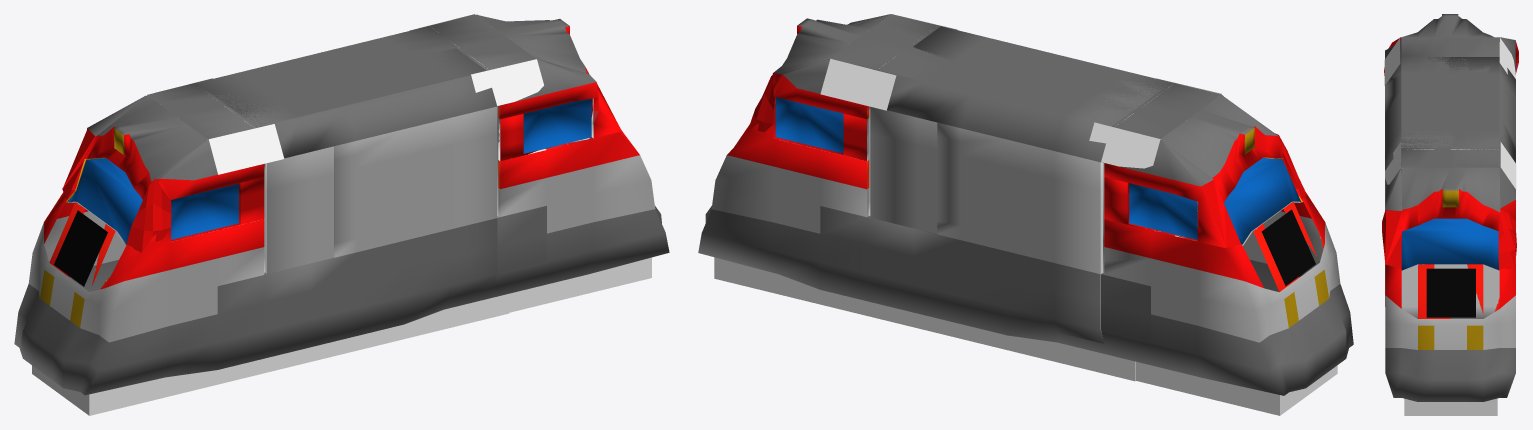
File: deTrain.fbx
The picture shows the model from 3 angles, left to right: view 1: azimuth 30°, elevation 25°; view 2: azimuth 150°, elevation 25°; view 3: azimuth 270°, elevation 25°; orthographic projection. The views are drawn at different scales.
Visible parts, largest first — view 1: Plane.001, Plane.000; view 2: Plane.000, Plane.001; view 3: Plane.000, Plane.001.
Part boxes in pixels (x1=…): Plane.001: x1=14, y1=48, x2=509, y2=415; Plane.000: x1=197, y1=14, x2=669, y2=312; Plane.000: x1=698, y1=14, x2=1163, y2=381; Plane.001: x1=870, y1=26, x2=1353, y2=415; Plane.000: x1=1382, y1=57, x2=1516, y2=415; Plane.001: x1=1384, y1=14, x2=1518, y2=318.
Bounding box in the file's own units: 2282 × 910 × 557.
7 materials, 2 textured.
